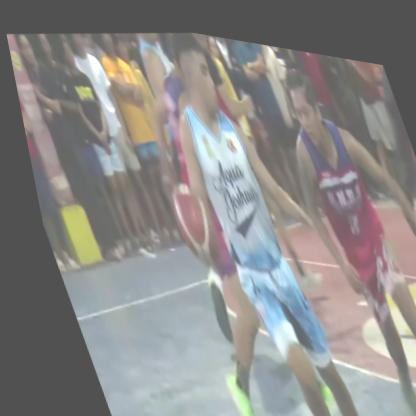basketball: (152, 169, 223, 269)
